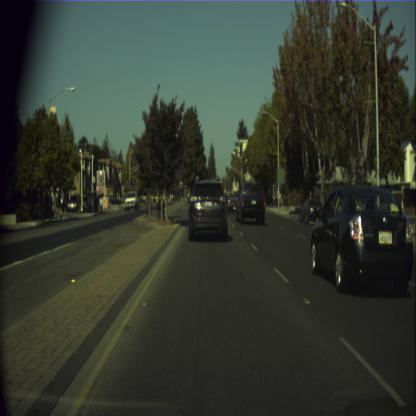Green: (226, 166, 228, 174)
Red: (180, 184, 182, 190)
